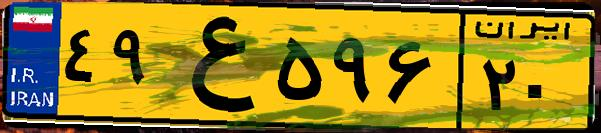0: (525, 38, 570, 115)
2: (475, 38, 525, 113)
4: (57, 26, 110, 100)
5: (270, 28, 330, 110)
6: (385, 28, 445, 110)
9: (330, 28, 385, 110), (110, 28, 158, 98)
ع: (158, 12, 270, 120)
